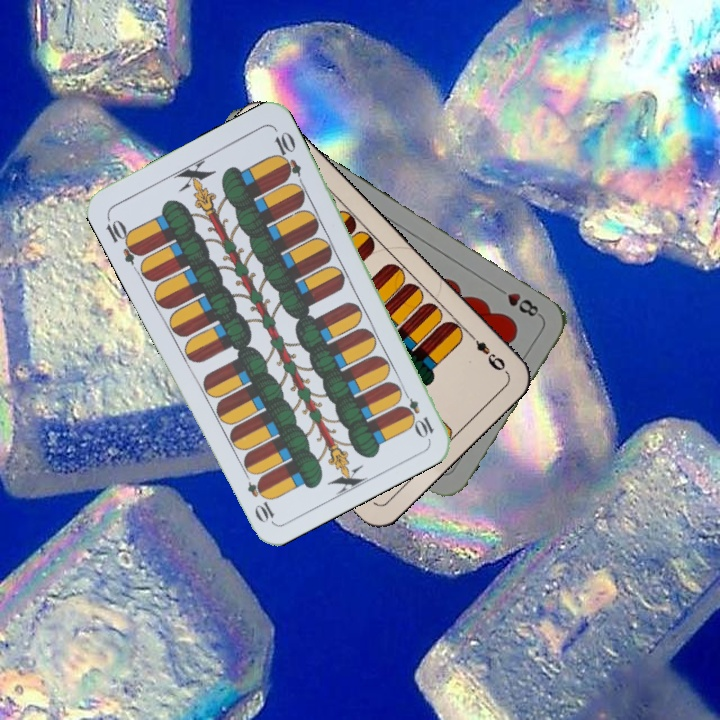E10: (102, 212, 145, 267), (396, 384, 437, 440)
E9: (464, 328, 508, 374)
H8: (491, 282, 544, 320)
